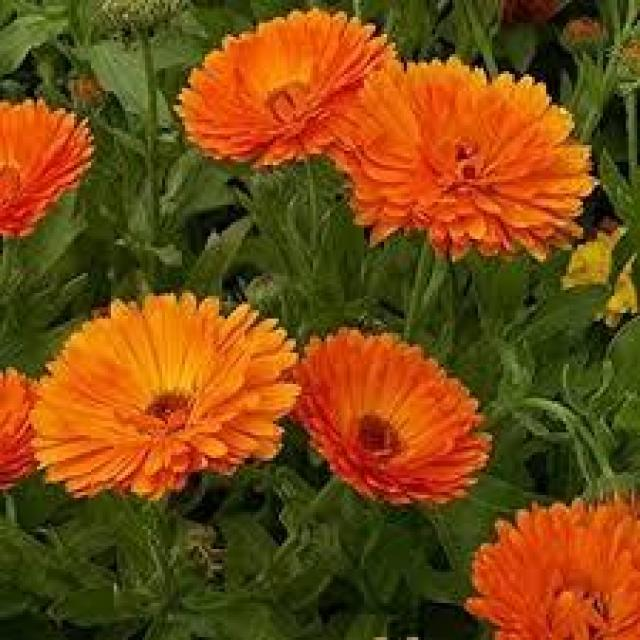organic waste: (336, 62, 597, 268), (27, 296, 292, 492), (263, 327, 491, 506), (163, 16, 400, 158), (465, 484, 633, 626), (4, 91, 92, 247)
